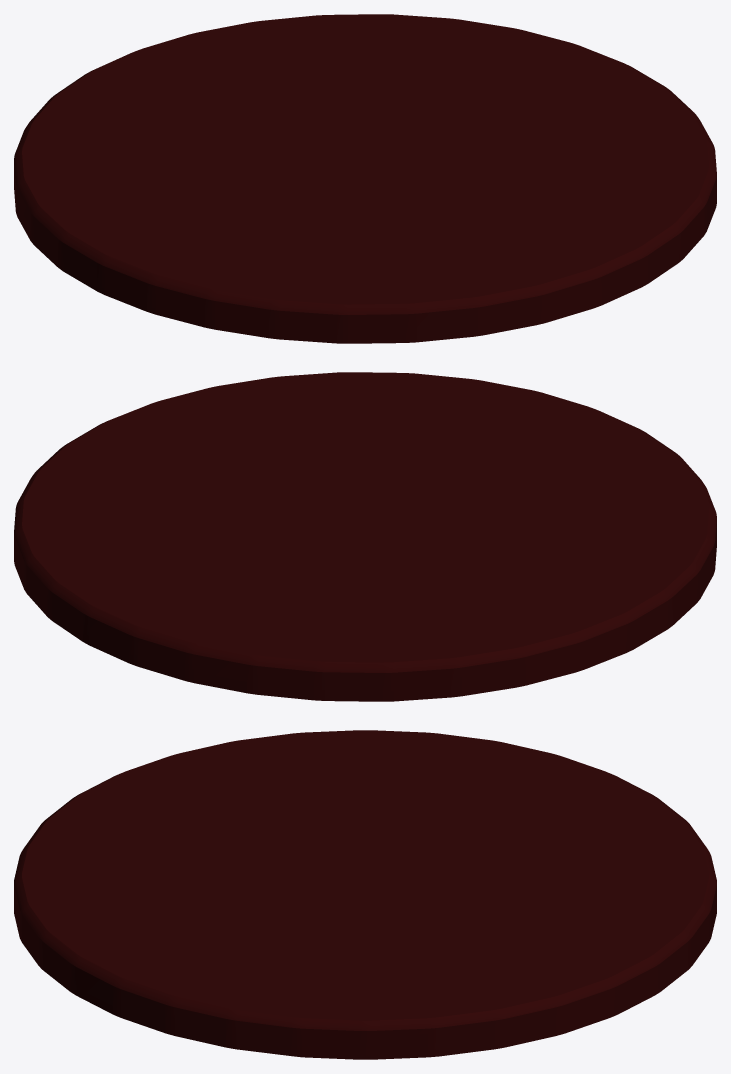
The model's file is overCookedPattyHalf.fbx.
3 views of the same model, one above another, from view 1: azimuth 30°, elevation 25°; view 2: azimuth 150°, elevation 25°; view 3: azimuth 270°, elevation 25° (orthographic).
Visible parts, largest first — view 1: overCookedPattyHalf; view 2: overCookedPattyHalf; view 3: overCookedPattyHalf.
Part boxes in pixels (x1=…): overCookedPattyHalf: x1=14, y1=14, x2=716, y2=343; overCookedPattyHalf: x1=14, y1=372, x2=716, y2=701; overCookedPattyHalf: x1=14, y1=730, x2=716, y2=1059.
Size of the model in its own units: 8.88 by 0.5 by 8.88.
